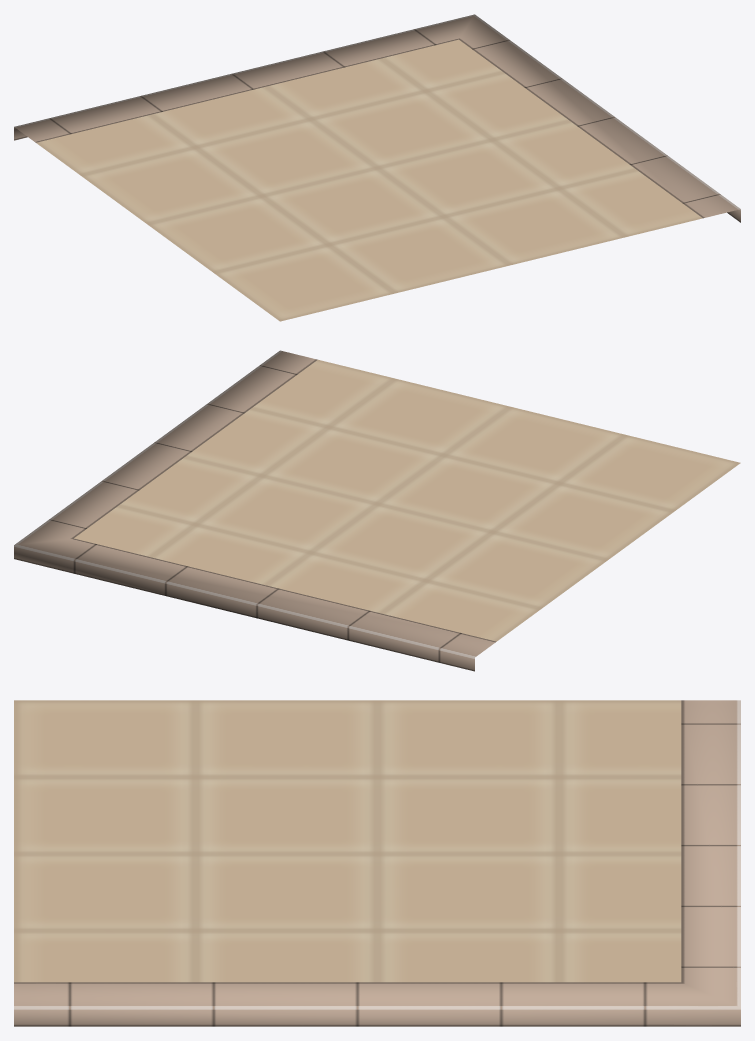
Rendered from Sidewalk_Corner.fbx.
The picture shows the model from 3 angles, top to bottom: view 1: azimuth 30°, elevation 25°; view 2: azimuth 150°, elevation 25°; view 3: azimuth 270°, elevation 25°; orthographic projection. The views are drawn at different scales.
Parts seen in each view (by area): view 1: Sidewalk_Corner; view 2: Sidewalk_Corner; view 3: Sidewalk_Corner.
Part boxes in pixels (bbox=[...]): Sidewalk_Corner: bbox=[14, 14, 740, 321]; Sidewalk_Corner: bbox=[14, 350, 740, 671]; Sidewalk_Corner: bbox=[14, 700, 740, 1026].
Size of the model in its own units: 400 by 11.49 by 400.
